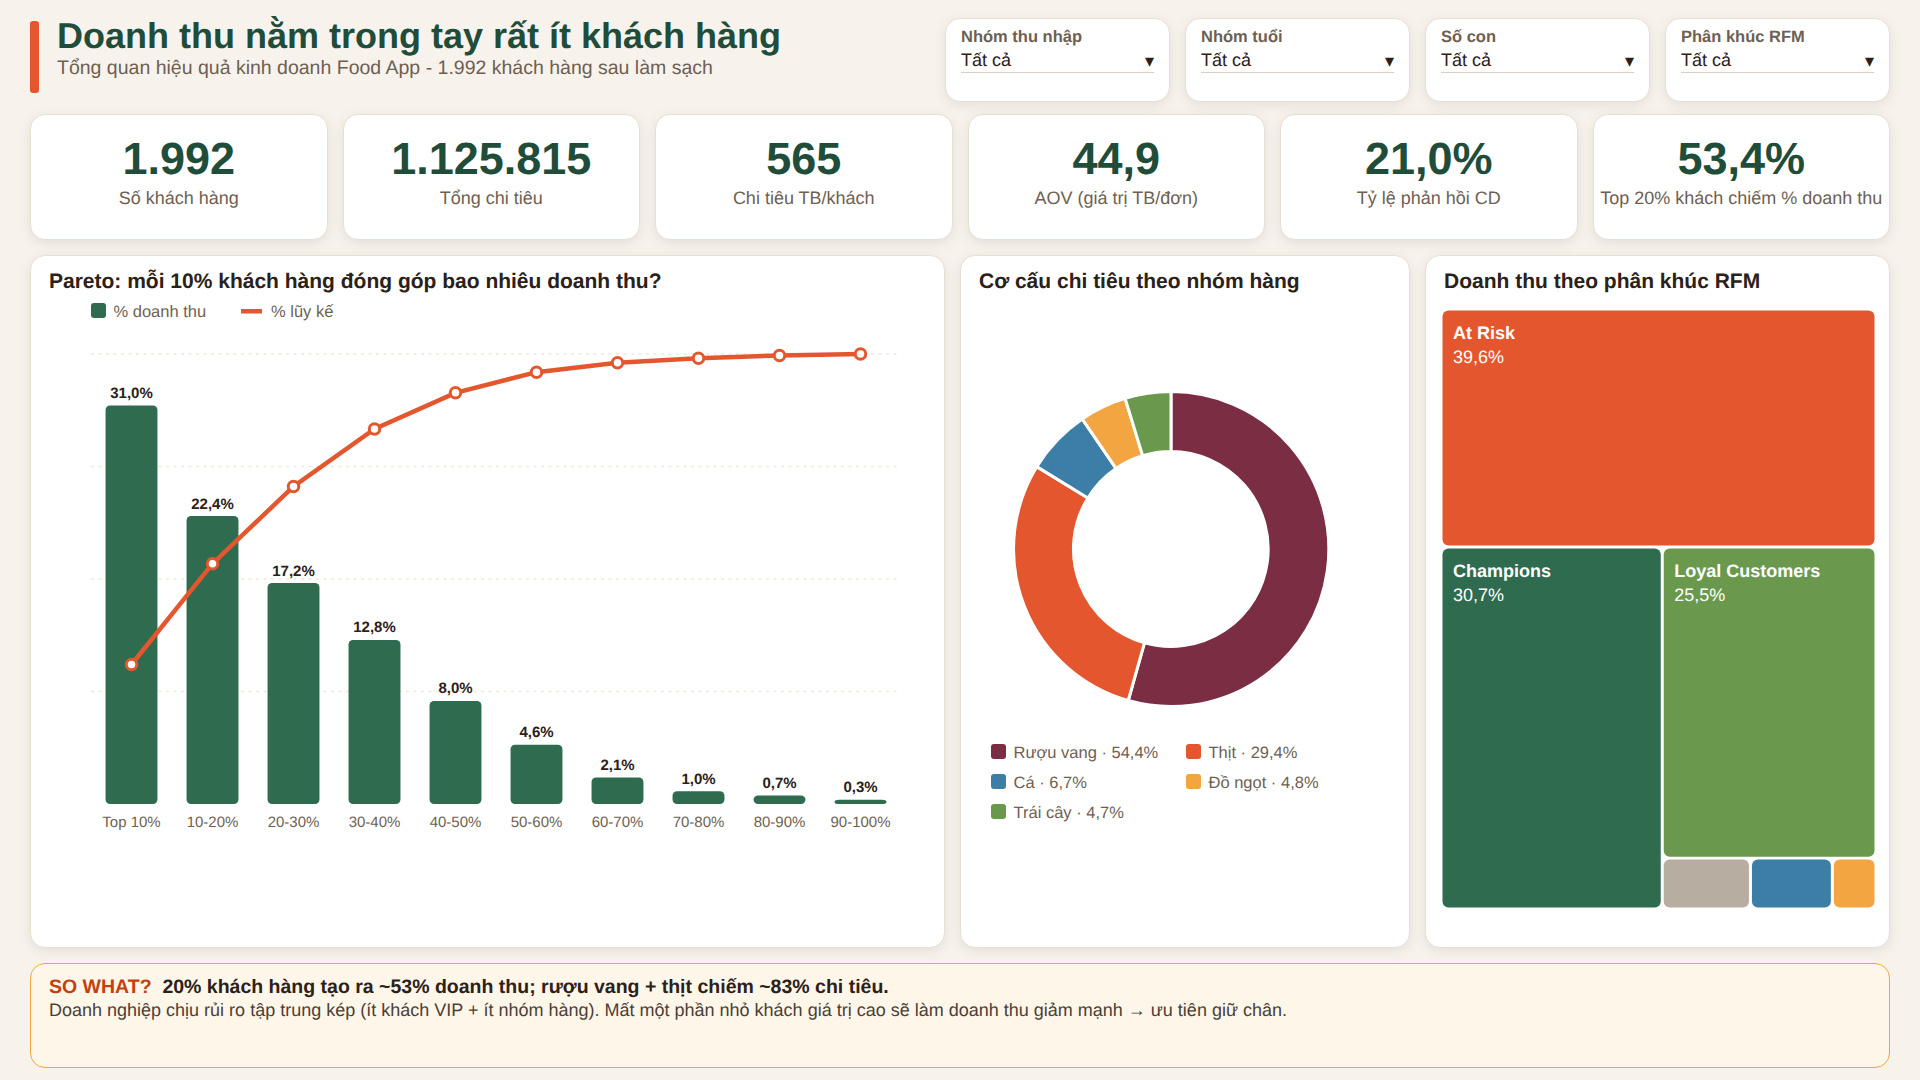

What the dashboard file says about the page in this screenshot:
{"tool":"powerbi","page":{"name":"1. Tổng quan","canvas":[1280,720],"ordinal":0},"visuals":[{"type":"shape","box":[20,17,6,48],"z":1050},{"type":"textbox","box":[34,10,618,62],"z":1100},{"type":"slicer","fields":{"Values":["Dim_IncomeGroup.Income_Group"]},"box":[664.7,10.6,139.3,62.1],"z":1200},{"type":"slicer","fields":{"Values":["Dim_AgeGroup.Age_Group"]},"box":[816,10,140,62],"z":1300},{"type":"slicer","fields":{"Values":["Customers.Children_Label"]},"box":[968,10,140,62],"z":1400},{"type":"slicer","fields":{"Values":["Dim_Segment.RFM_Segment"]},"box":[1120,10,140,62],"z":1500},{"type":"card","fields":{"Values":["_Measures.Số khách hàng"]},"box":[19.7,86.3,168.1,80.3],"z":1700},{"type":"card","fields":{"Values":["_Measures.Tổng chi tiêu"]},"box":[201.4,86.3,168.1,80.3],"z":1800},{"type":"card","fields":{"Values":["_Measures.Chi tiêu TB/khách"]},"box":[384.6,86.3,168.1,80.3],"z":1900},{"type":"card","fields":{"Values":["_Measures.AOV (giá trị TB/đơn)"]},"box":[567.8,86.3,190.8,80.3],"z":2000},{"type":"card","fields":{"Values":["_Measures.Tỷ lệ phản hồi CD"]},"box":[770.7,86.3,196.7,80],"z":2100},{"type":"card","fields":{"Values":["_Measures.Top 20% khách chiếm % doanh thu"]},"box":[979.7,86.3,280.1,80.3],"z":2200},{"type":"lineClusteredColumnComboChart","title":"Doanh thu theo thập phân vị khách hàng (Pareto)","fields":{"Category":["Customers.Spend_Decile_Label"],"Y":["_Measures.% doanh thu theo thập phân vị"],"Y2":["_Measures.% doanh thu lũy kế"]},"box":[20,178,600,522],"z":2300},{"type":"donutChart","title":"Cơ cấu chi tiêu theo nhóm hàng","fields":{"Category":["Spend_By_Category.Category"],"Y":["_Measures.Chi tiêu theo nhóm hàng"]},"box":[632,178,300,522],"z":2400},{"type":"treemap","title":"Doanh thu theo phân khúc RFM","fields":{"Group":["Dim_Segment.RFM_Segment"],"Values":["_Measures.Tổng chi tiêu"]},"box":[944,178,316,522],"z":2500}]}

Visuals, with their boxes in screenshot pixels (x1, y1, x2, y2), scaled from the page's 1280x720 canvas onto the 1920x1080 screenshot:
shape: x1=30, y1=26, x2=39, y2=98
textbox: x1=51, y1=15, x2=978, y2=108
slicer - Dim_IncomeGroup.Income_Group: x1=997, y1=16, x2=1206, y2=109
slicer - Dim_AgeGroup.Age_Group: x1=1224, y1=15, x2=1434, y2=108
slicer - Customers.Children_Label: x1=1452, y1=15, x2=1662, y2=108
slicer - Dim_Segment.RFM_Segment: x1=1680, y1=15, x2=1890, y2=108
card - _Measures.Số khách hàng: x1=30, y1=129, x2=282, y2=250
card - _Measures.Tổng chi tiêu: x1=302, y1=129, x2=554, y2=250
card - _Measures.Chi tiêu TB/khách: x1=577, y1=129, x2=829, y2=250
card - _Measures.AOV (giá trị TB/đơn): x1=852, y1=129, x2=1138, y2=250
card - _Measures.Tỷ lệ phản hồi CD: x1=1156, y1=129, x2=1451, y2=249
card - _Measures.Top 20% khách chiếm % doanh thu: x1=1470, y1=129, x2=1890, y2=250
"Doanh thu theo thập phân vị khách hàng (Pareto)" lineClusteredColumnComboChart: x1=30, y1=267, x2=930, y2=1050
"Cơ cấu chi tiêu theo nhóm hàng" donutChart: x1=948, y1=267, x2=1398, y2=1050
"Doanh thu theo phân khúc RFM" treemap: x1=1416, y1=267, x2=1890, y2=1050
